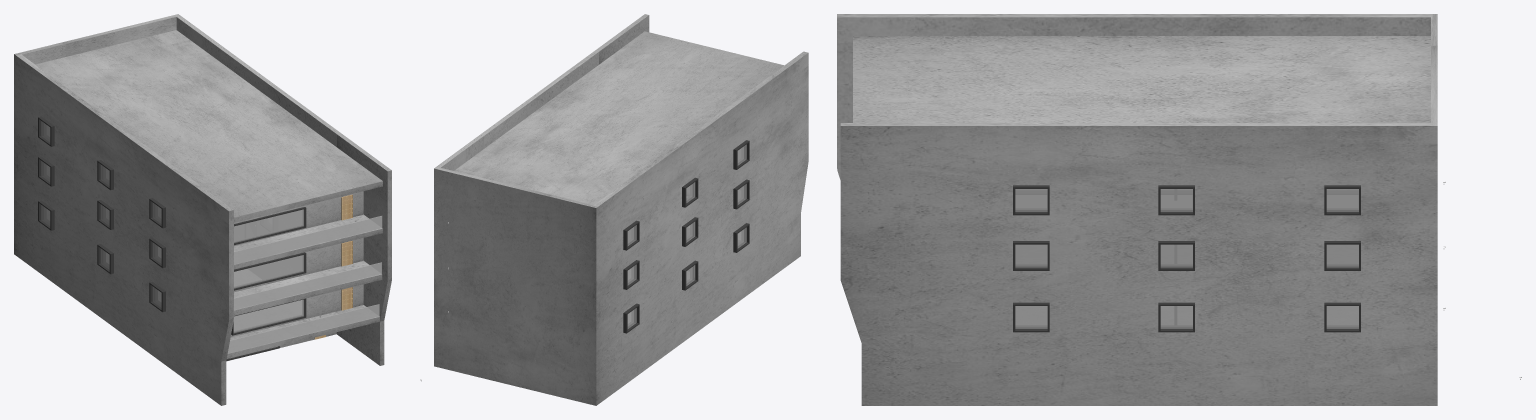
The model's file is EDIF.3.fbx.
3 views of the same model, side by side, from view 1: azimuth 30°, elevation 25°; view 2: azimuth 150°, elevation 25°; view 3: azimuth 270°, elevation 25° (orthographic). The views are drawn at different scales.
Parts seen in each view (by area): view 1: pasted__EDIFICIO, pasted__VARANDA_EDIFICIO, pasted__VARANDA_EDIFICIO2, pasted__VARANDA_EDIFICIO1, pasted__pCube45, pasted__pCube46, pasted__pCube44, pasted__pCube33, pasted__pCube28, pasted__pCube34, pasted__pCube29, pasted__pCube31 (+4 smaller); view 2: pasted__EDIFICIO, pasted__pCube33, pasted__pCube31, pasted__pCube29, pasted__pCube27, pasted__pCube28, pasted__pCube32, pasted__pCube30, pasted__pCube26, pasted__pCube34; view 3: pasted__EDIFICIO, pasted__pCube17, pasted__pCube22, pasted__pCube19, pasted__pCube25, pasted__pCube21, pasted__pCube24, pasted__pCube20, pasted__pCube23, pasted__pCube18.
Boxes of the visible parts, <box> form: pasted__EDIFICIO: <box>14,14,391,405</box>; pasted__VARANDA_EDIFICIO: <box>227,304,379,353</box>; pasted__VARANDA_EDIFICIO2: <box>234,216,382,264</box>; pasted__VARANDA_EDIFICIO1: <box>234,262,381,309</box>; pasted__pCube45: <box>234,252,306,290</box>; pasted__pCube46: <box>234,207,306,245</box>; pasted__pCube44: <box>231,298,306,335</box>; pasted__pCube33: <box>38,156,54,186</box>; pasted__pCube28: <box>97,160,113,190</box>; pasted__pCube34: <box>38,116,54,146</box>; pasted__pCube29: <box>149,198,165,228</box>; pasted__pCube31: <box>149,282,165,312</box>; pasted__EDIFICIO: <box>434,14,808,405</box>; pasted__pCube33: <box>623,260,639,289</box>; pasted__pCube31: <box>733,223,749,252</box>; pasted__pCube29: <box>733,140,749,169</box>; pasted__pCube27: <box>682,217,698,246</box>; pasted__pCube28: <box>682,177,698,207</box>; pasted__pCube32: <box>623,303,639,333</box>; pasted__pCube30: <box>733,179,749,209</box>; pasted__pCube26: <box>682,260,698,290</box>; pasted__pCube34: <box>623,220,639,250</box>; pasted__EDIFICIO: <box>837,14,1437,405</box>; pasted__pCube17: <box>1013,302,1049,332</box>; pasted__pCube22: <box>1158,302,1194,332</box>; pasted__pCube19: <box>1013,185,1049,215</box>; pasted__pCube25: <box>1324,302,1360,332</box>; pasted__pCube21: <box>1158,185,1194,215</box>; pasted__pCube24: <box>1324,185,1360,215</box>; pasted__pCube20: <box>1158,241,1194,270</box>; pasted__pCube23: <box>1324,241,1360,270</box>; pasted__pCube18: <box>1013,241,1049,270</box>.
Size of the model in its own units: 1558 by 1748 by 3874.
